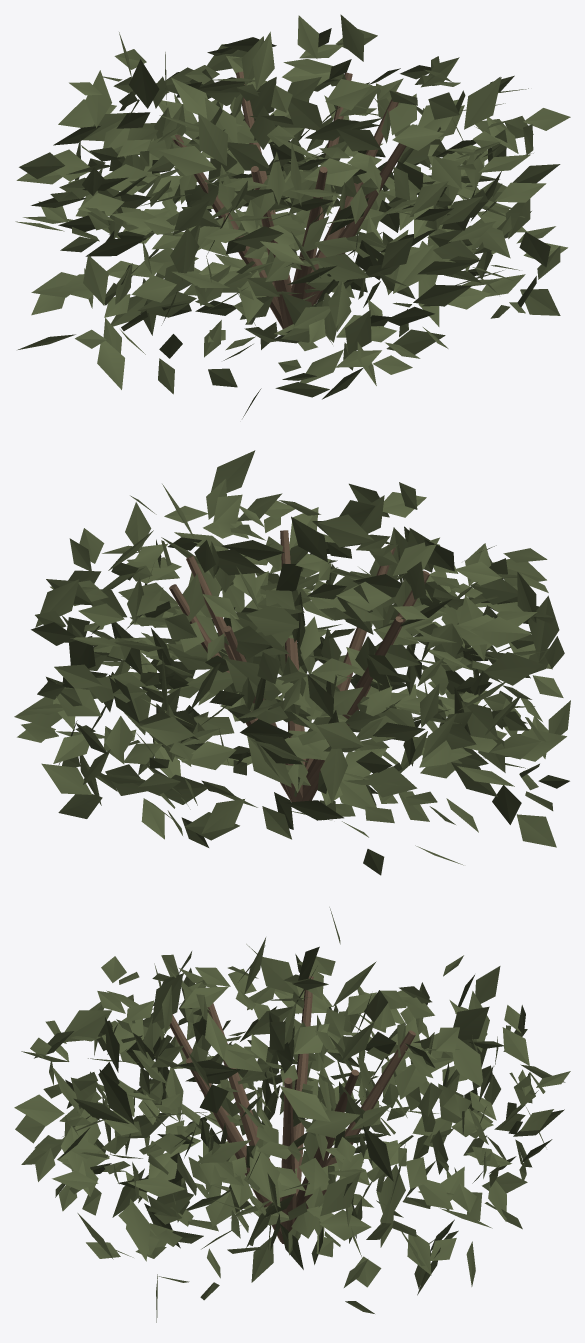
Rendered from mediterranean-shrub.glb.
The picture shows the model from 3 angles, top to bottom: view 1: azimuth 30°, elevation 25°; view 2: azimuth 150°, elevation 25°; view 3: azimuth 270°, elevation 25°; orthographic projection. The views are drawn at different scales.
Visible parts, largest first — view 1: mediterranean-shrub; view 2: mediterranean-shrub; view 3: mediterranean-shrub.
Part boxes in pixels (box(x1,y1,x2,y2)): mediterranean-shrub: box(15, 14, 570, 418); mediterranean-shrub: box(14, 450, 570, 875); mediterranean-shrub: box(14, 907, 570, 1322).
Bounding box in the file's own units: 1.64 × 0.907 × 1.57.
